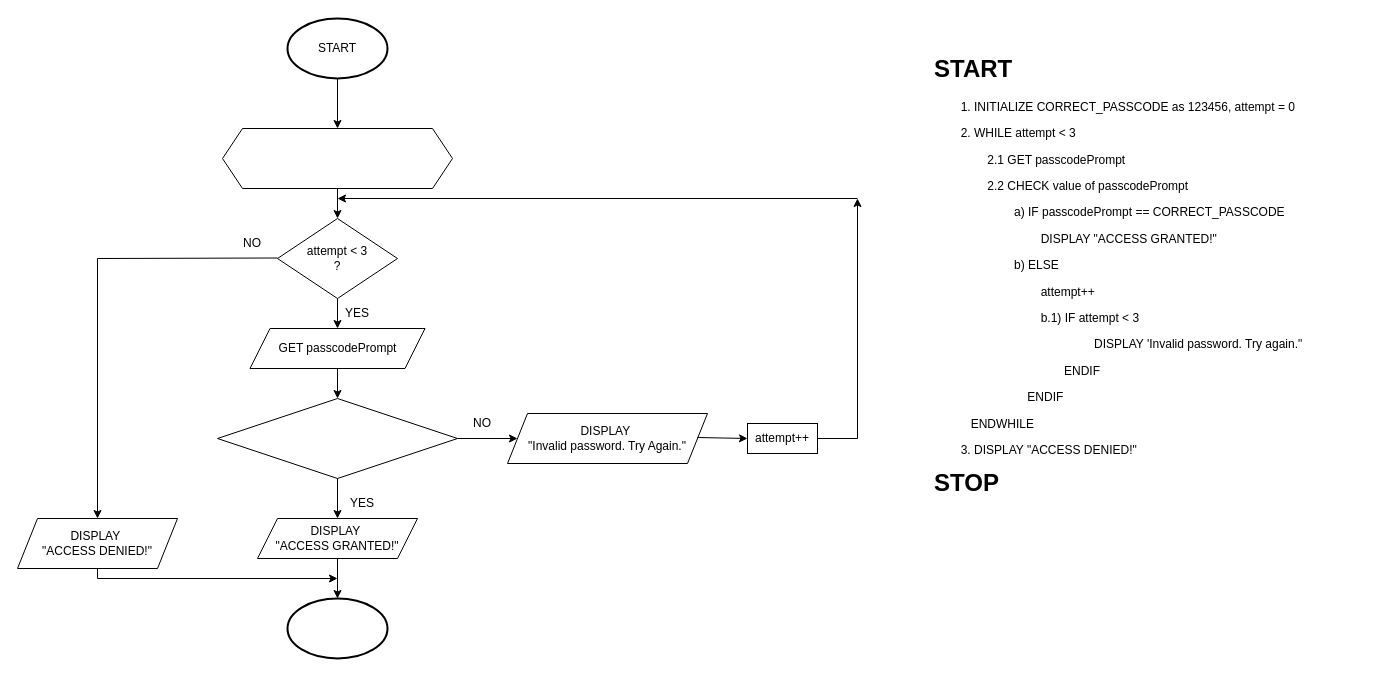
Image size: 1380x676. Some labels were removed from this diagram. The centre of each missing label's shape, as x and y in pixels:
DEFINE CORRECT_PASSCODE as 123456, attempt = 0: point (337, 158)
passcodePrompt == CORRECT_PASSCODE ?: point (337, 438)
STOP: point (337, 628)
